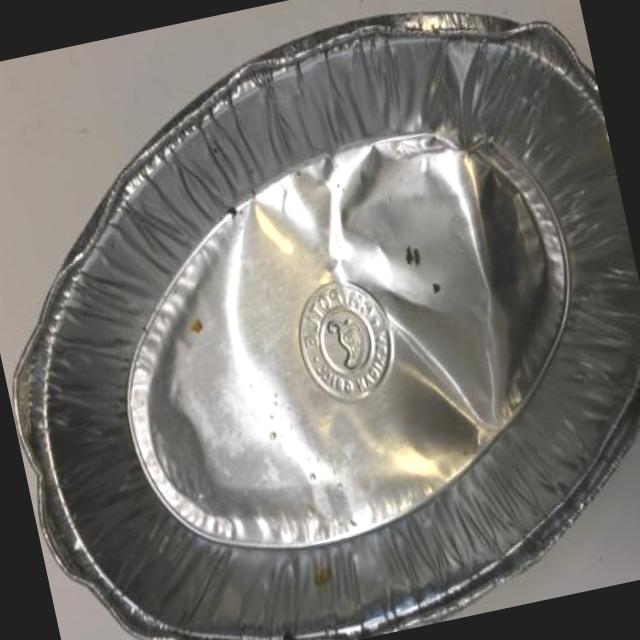nhom: (13, 10, 640, 640)
